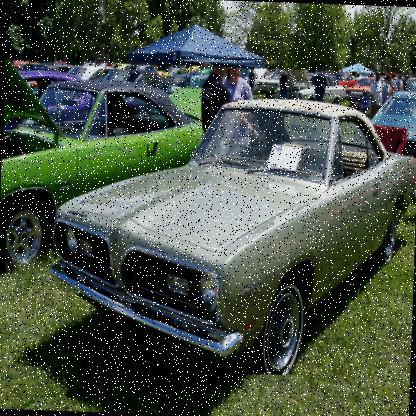Car: (0, 58, 415, 381)
